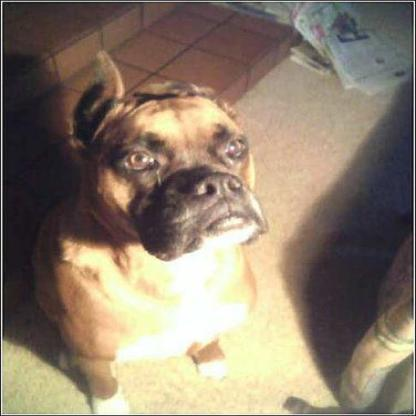boxer: (1, 46, 271, 413)
